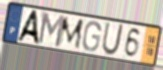6: (123, 27, 142, 60)
A: (14, 9, 41, 46)
G: (81, 20, 103, 53)
M: (37, 11, 66, 49), (57, 16, 85, 51)
U: (101, 22, 125, 57)
